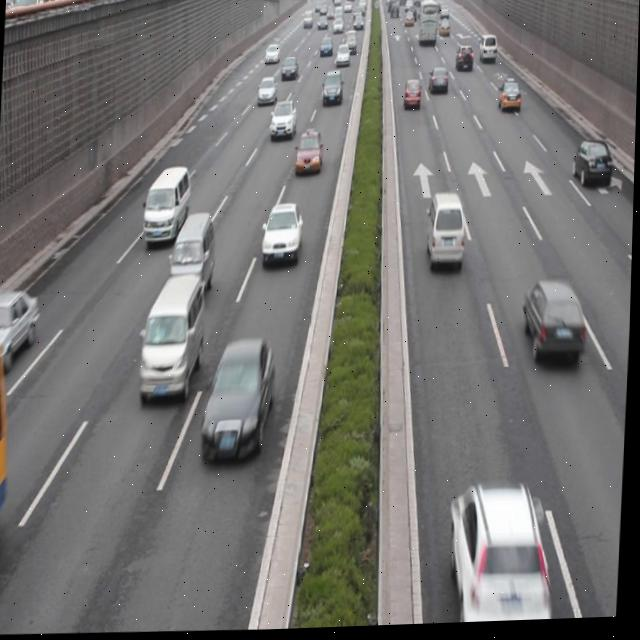car: (448, 486, 553, 627), (203, 338, 278, 465), (522, 281, 588, 370), (0, 289, 40, 371), (263, 204, 301, 268), (570, 141, 611, 192), (294, 129, 324, 173), (270, 100, 297, 141)
truck: (142, 274, 209, 400), (169, 215, 216, 307), (144, 168, 190, 246), (426, 193, 467, 276)
